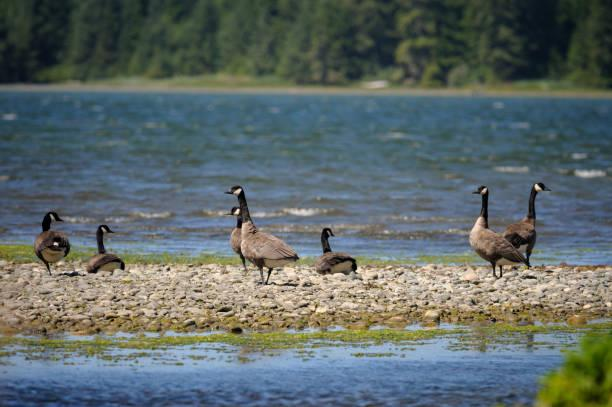Canadian-Goose: (225, 183, 298, 278), (462, 178, 523, 276), (509, 181, 548, 252), (309, 226, 356, 277), (33, 210, 71, 272), (85, 224, 123, 272), (225, 206, 242, 252)
